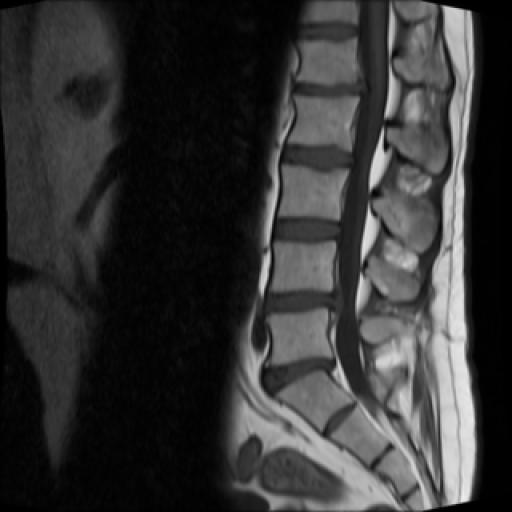L1: (297, 38, 358, 84)
L2: (288, 95, 358, 150)
L3: (278, 163, 349, 220)
L4: (272, 242, 334, 292)
L5: (264, 307, 333, 368)
S1: (276, 371, 353, 432)
